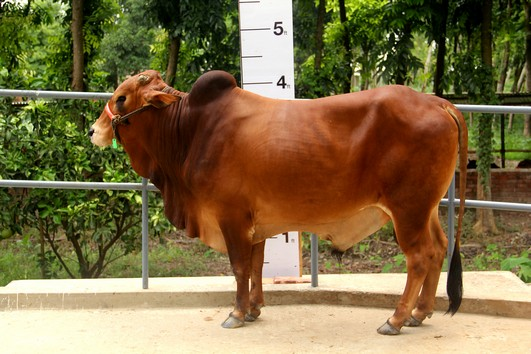cow: (85, 61, 474, 340)
